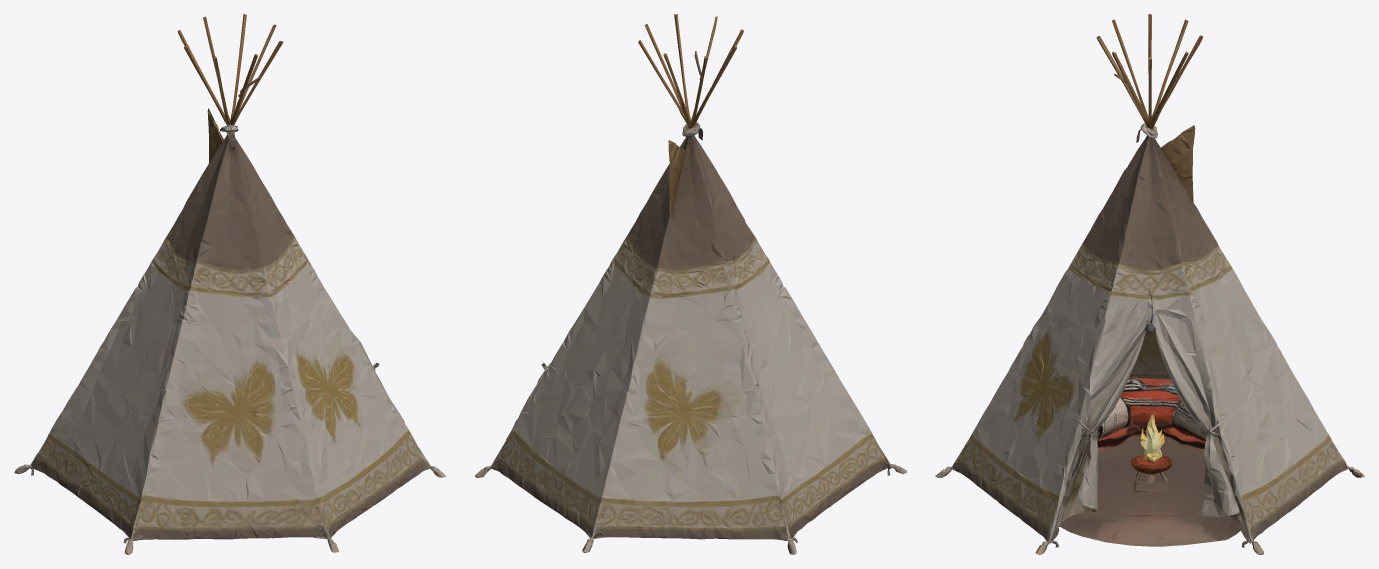
Rendered from tipi.yellowbutterfly.lite.mobile.glb.
3 views of the same model, side by side, from view 1: azimuth 30°, elevation 25°; view 2: azimuth 150°, elevation 25°; view 3: azimuth 270°, elevation 25° (orthographic).
Visible parts, largest first — view 1: tripo_node_c34ee706-acd6-4dc8-b86d-f25055d22140; view 2: tripo_node_c34ee706-acd6-4dc8-b86d-f25055d22140; view 3: tripo_node_c34ee706-acd6-4dc8-b86d-f25055d22140.
Boxes of the visible parts, x1,y1,x2,y2 form: tripo_node_c34ee706-acd6-4dc8-b86d-f25055d22140: (14,14,446,554); tripo_node_c34ee706-acd6-4dc8-b86d-f25055d22140: (475,14,906,554); tripo_node_c34ee706-acd6-4dc8-b86d-f25055d22140: (935,14,1364,554).
Size of the model in its own units: 0.7625 by 0.9999 by 0.8821.
Materials: 1 (1 with a texture image).
